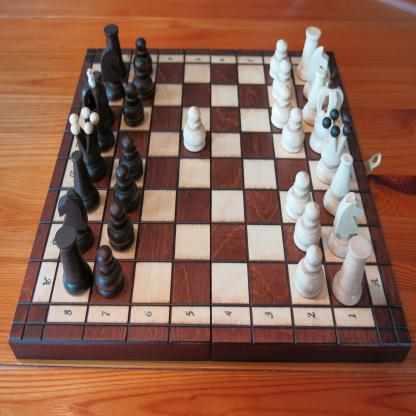black-bishop: (71, 149, 100, 213), (91, 68, 117, 127)
black-king: (81, 66, 116, 152)
black-knight: (58, 186, 93, 253), (100, 45, 124, 100)
black-pawn: (94, 244, 126, 299), (106, 200, 135, 251), (114, 163, 138, 212), (118, 133, 142, 181), (131, 56, 154, 100), (122, 82, 144, 128), (132, 36, 153, 78)
black-queen: (68, 106, 108, 182)
black-rook: (54, 223, 94, 296), (104, 22, 128, 79)
white-bishop: (324, 151, 356, 216), (302, 66, 326, 126)
white-king: (309, 70, 345, 154)
white-knight: (328, 190, 366, 260), (304, 44, 332, 102)
white-pawn: (293, 243, 325, 299), (293, 200, 322, 252), (284, 170, 312, 221), (182, 105, 207, 153), (281, 104, 305, 154), (271, 83, 294, 128), (269, 38, 291, 79), (272, 58, 293, 100)
white-queen: (316, 107, 353, 184)
white-rook: (332, 233, 374, 308), (296, 25, 323, 81)
